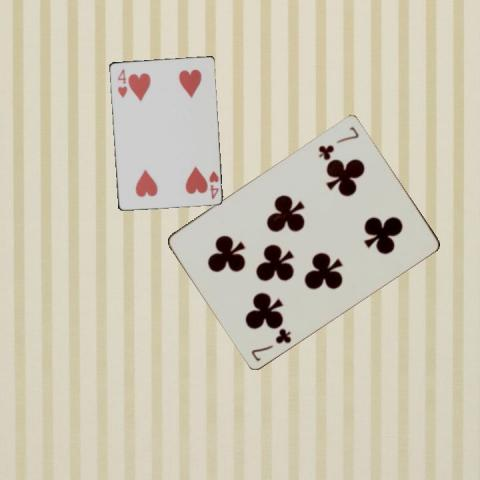4h: (114, 66, 127, 99), (206, 168, 219, 200)
7c: (315, 123, 361, 160), (248, 325, 293, 362)
